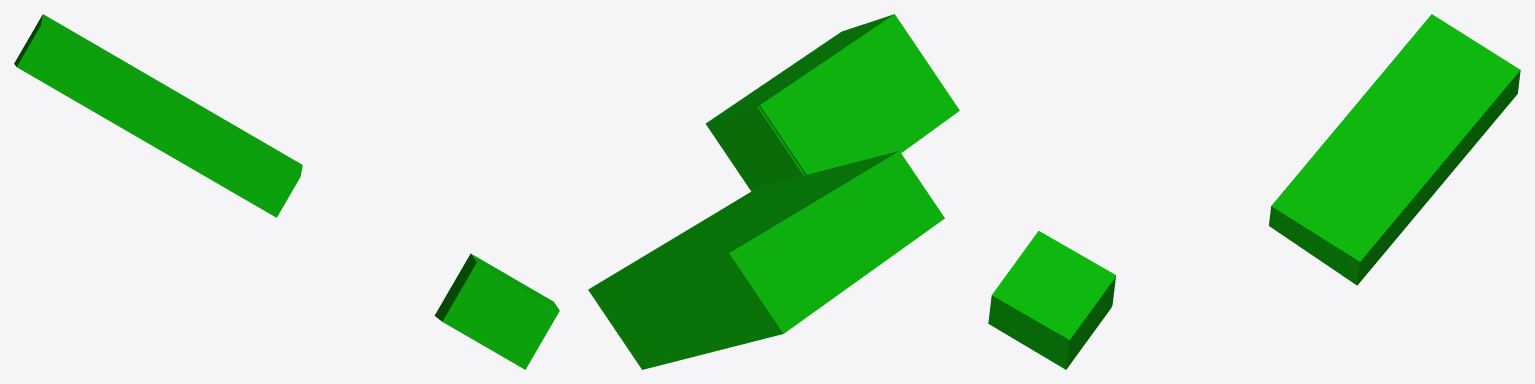
3 renders of one model, left to right at view 1: azimuth 30°, elevation 25°; view 2: azimuth 150°, elevation 25°; view 3: azimuth 270°, elevation 25°, orthographic. The views are drawn at different scales.
Visible parts, largest first — view 1: mesh; view 2: mesh; view 3: mesh.
Boxes of the visible parts, <box> form: mesh: <box>14,14,559,369</box>; mesh: <box>588,14,959,369</box>; mesh: <box>988,14,1520,369</box>.
Bounding box in the file's own units: 21.19 × 15.41 × 31.77.
